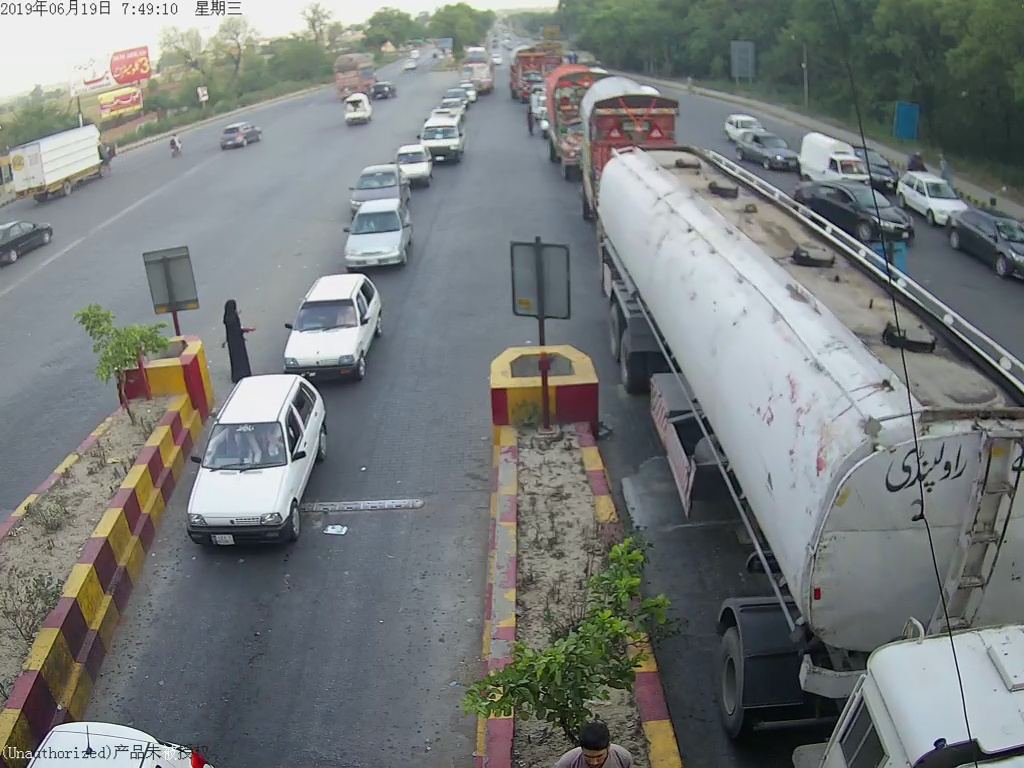Cat-1: (178, 367, 333, 544), (280, 270, 382, 383), (340, 201, 411, 273), (338, 163, 407, 218), (393, 145, 438, 189)
Cat-4: (533, 63, 601, 170)
